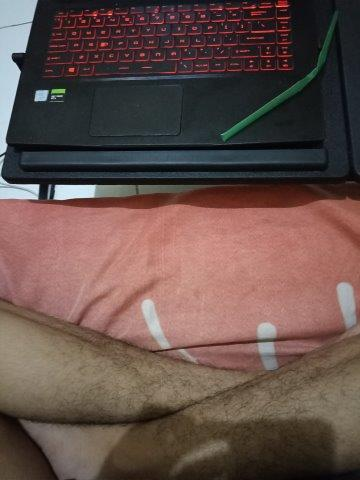sedotan: (222, 13, 338, 139)
